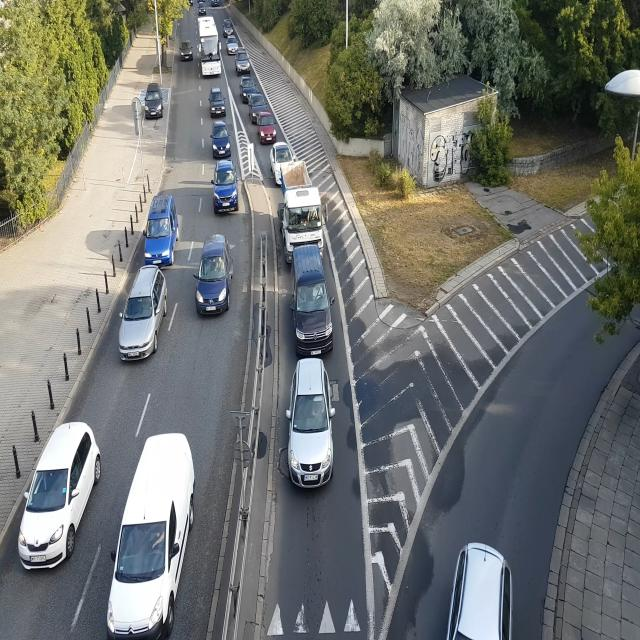bus: (197, 18, 222, 78)
car: (104, 446, 199, 636), (8, 418, 103, 576), (284, 364, 334, 494), (448, 547, 515, 640), (110, 270, 171, 365), (288, 250, 335, 356), (194, 237, 233, 317), (143, 187, 177, 259), (213, 166, 237, 216), (271, 136, 295, 174), (143, 85, 165, 120), (258, 111, 276, 147), (248, 93, 268, 123), (212, 123, 230, 155), (240, 76, 258, 102), (210, 89, 226, 118), (236, 47, 249, 73), (181, 38, 193, 59), (225, 33, 238, 52), (222, 17, 234, 37), (198, 4, 206, 14), (211, 0, 219, 7)
truck: (277, 162, 325, 255)
